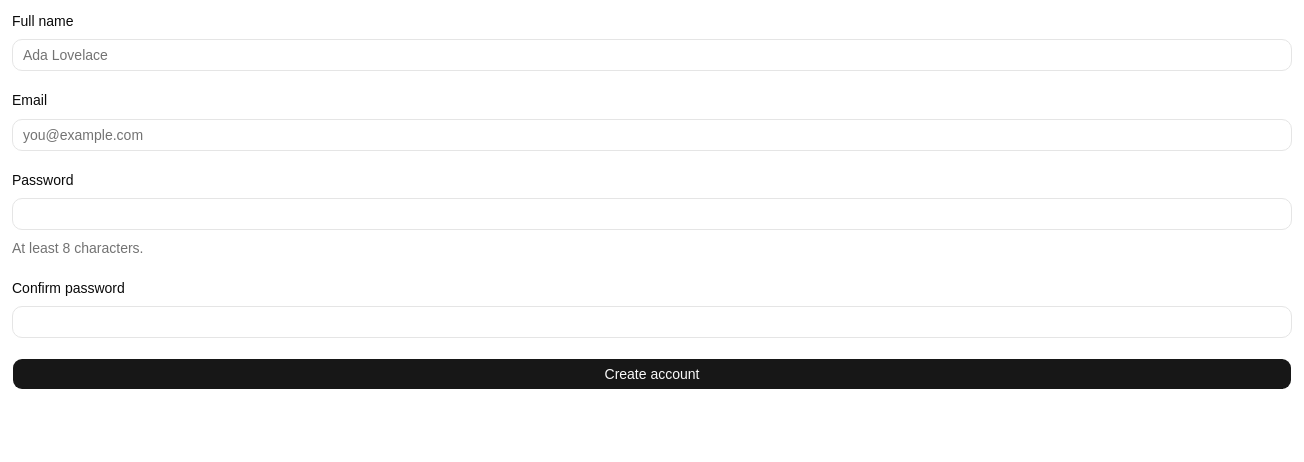
Scenario: SignUpForm › enforces the minimum password length and a full name
Type "ada@example.com" into the field labelled "Email" at (652, 134), box [12,118,1292,150]
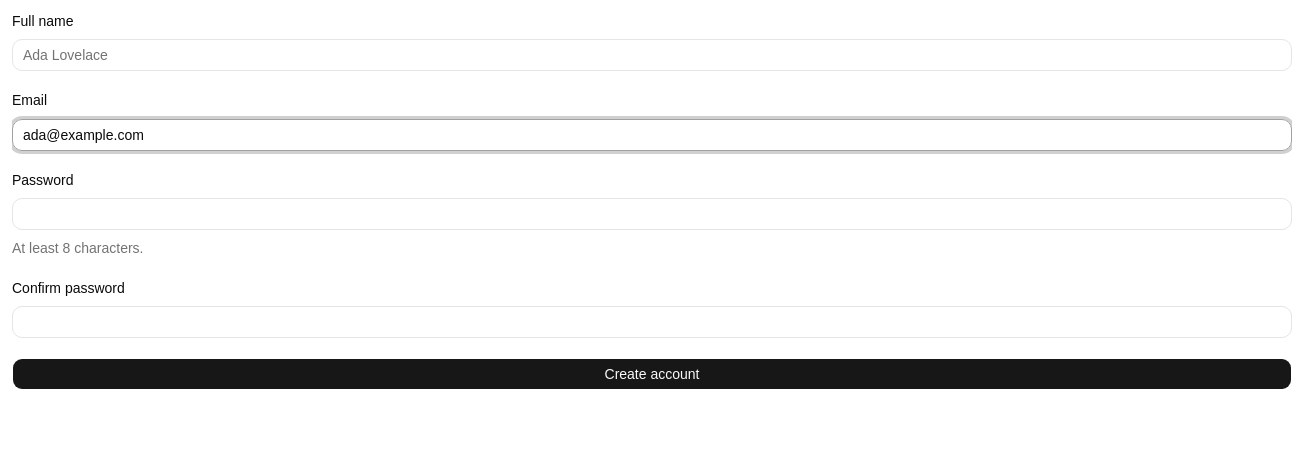
Type "short" into the password field labelled "Password" at (652, 214), box [12,198,1292,230]
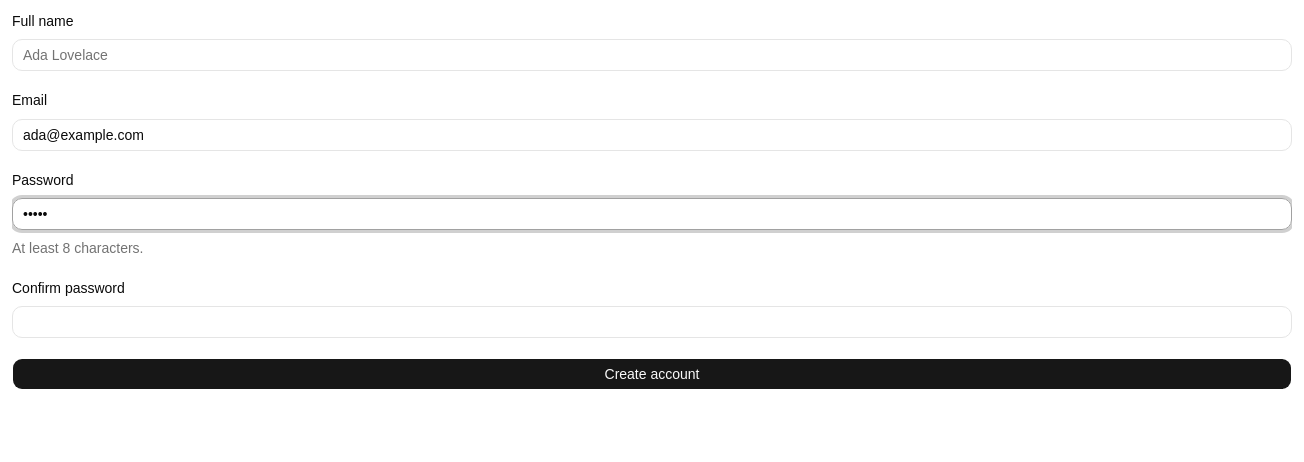
Type "short" into the password field labelled "Confirm password" at (652, 322), box [12,306,1292,338]
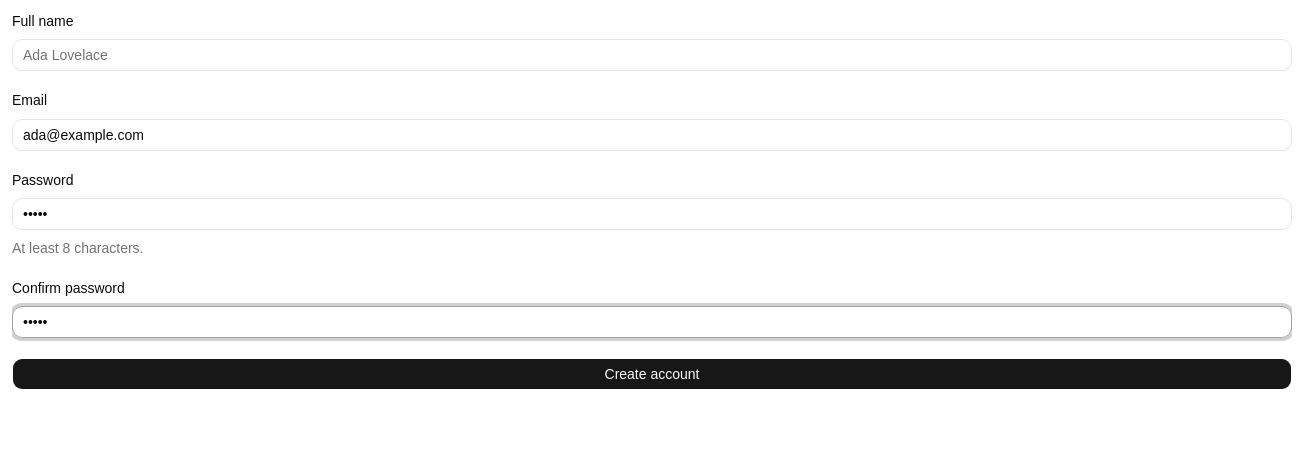
Click the button "Create account" at (652, 374), box [12,358,1292,390]
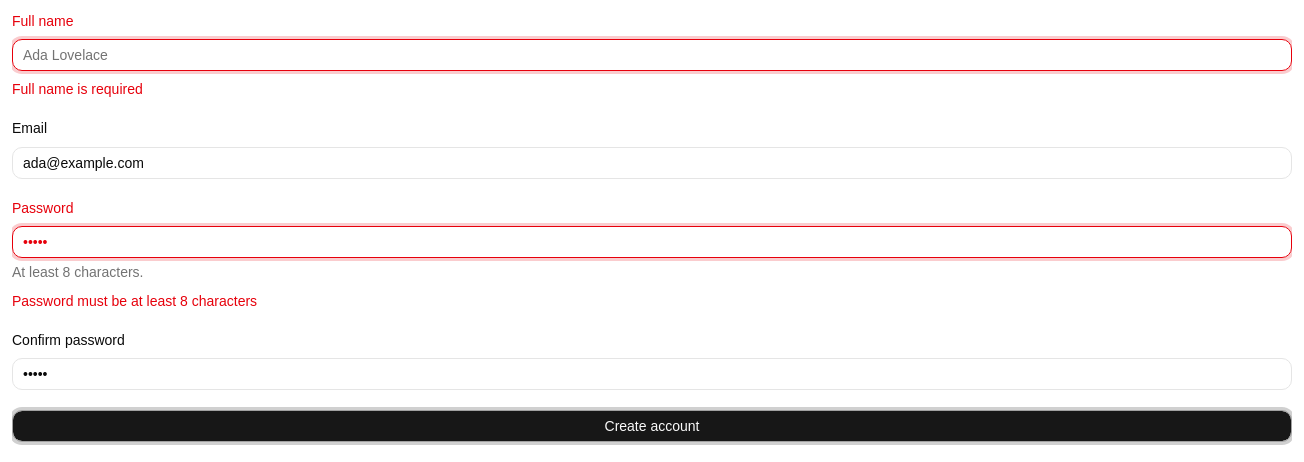
expect the text "Full name is required" is shown: met, box [12,81,143,97]
expect the text "Password must be at least 8 characters" is shown: met, box [12,293,257,309]
